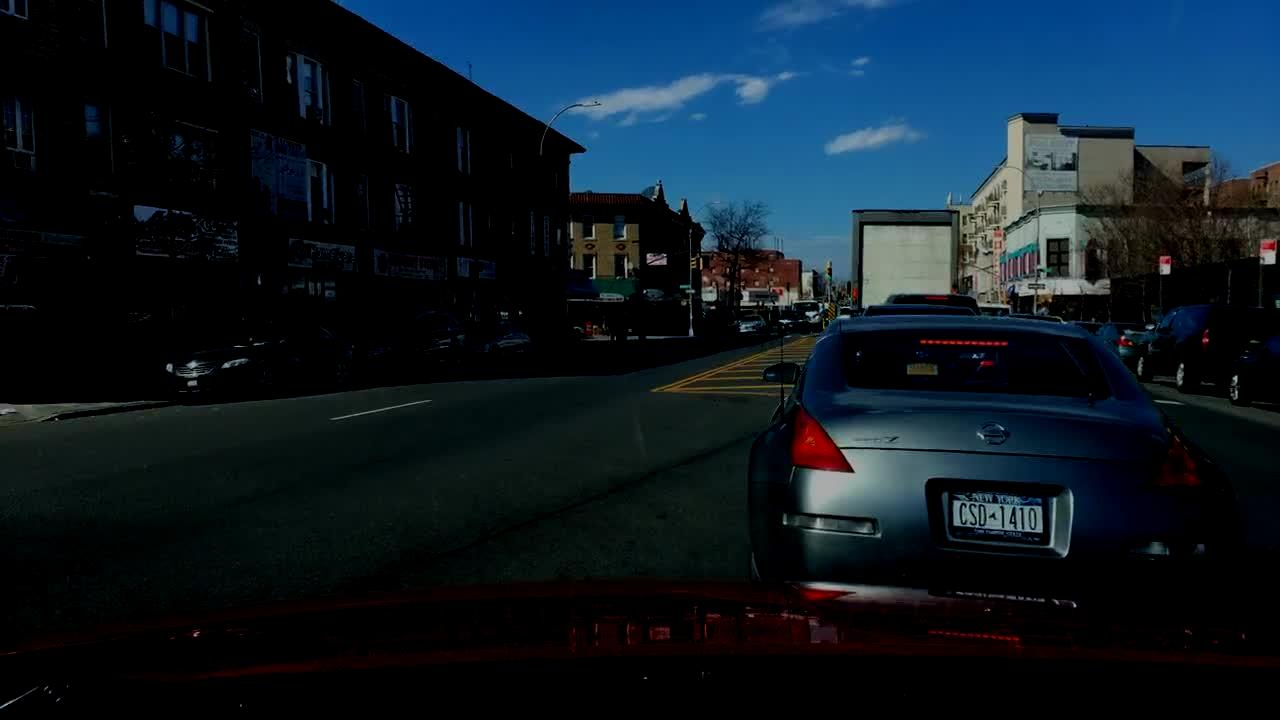Nissan: (970, 411, 1016, 457)
